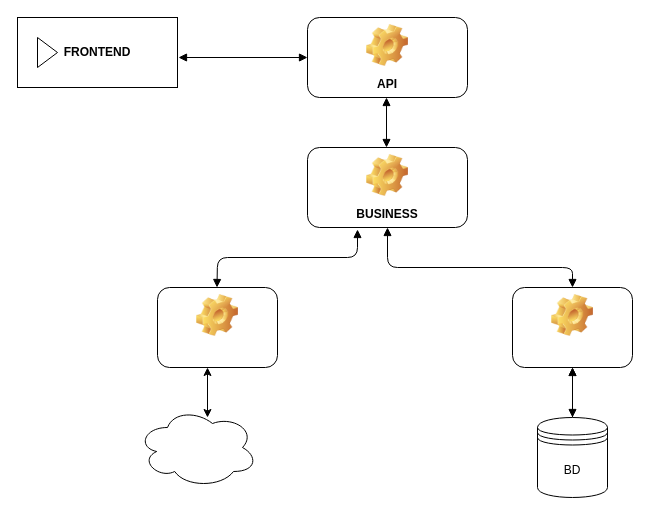
Image size: 650x515. Some labels were removed from this diagram. The shapes that lost their labels are listed below. From the top down, each one's centre as x and y in pixels, then its label:
At pixel 217 327: "INTEGRATION".
At pixel 572 327: "DAO".
